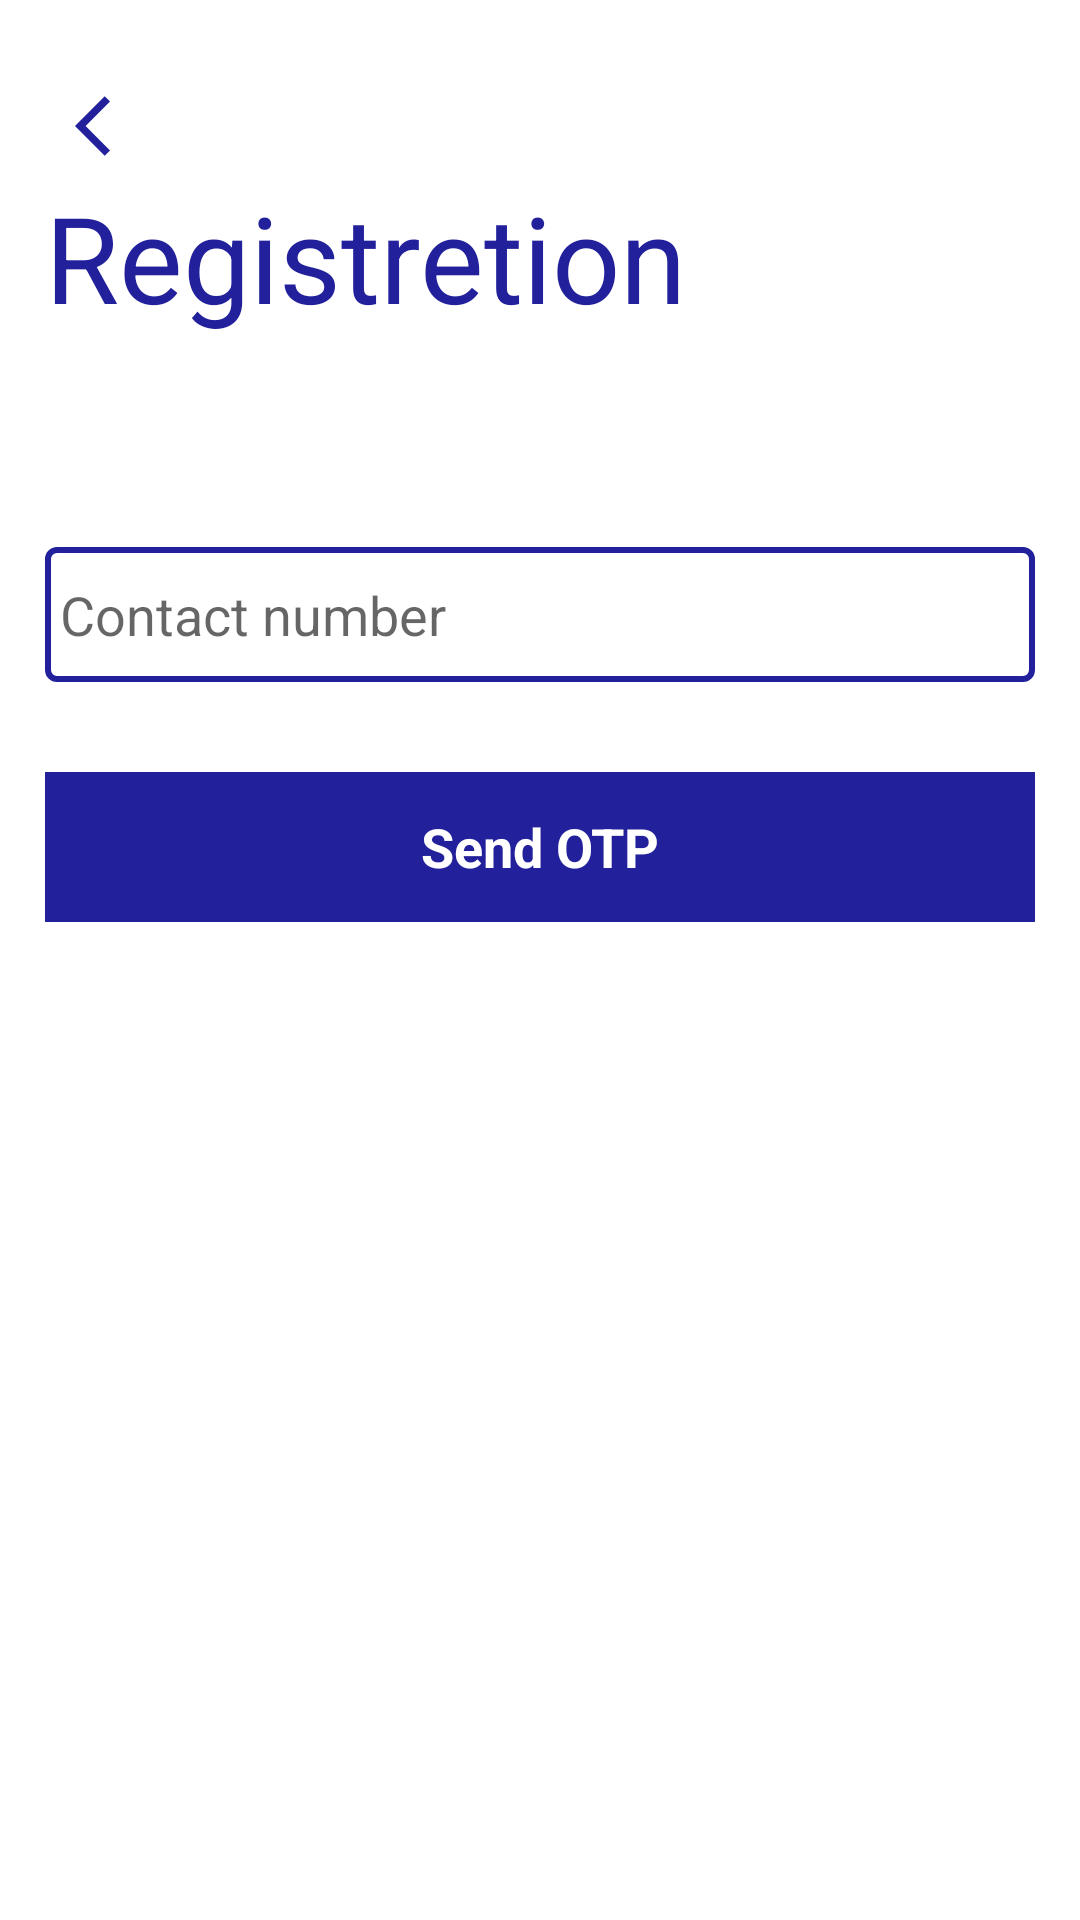

Screen size 1080px x 1920px. Icon name, then its center in pixels as point (x, y):
arrow back: point (92, 126)
